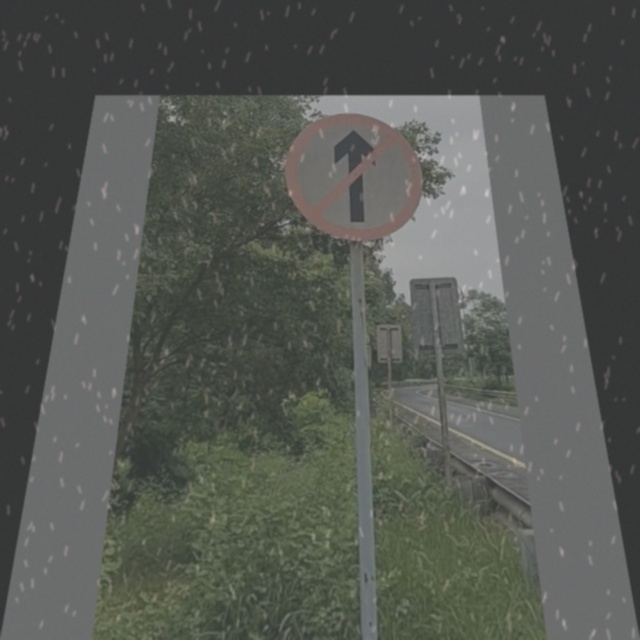No_Entry: (283, 114, 425, 240)
